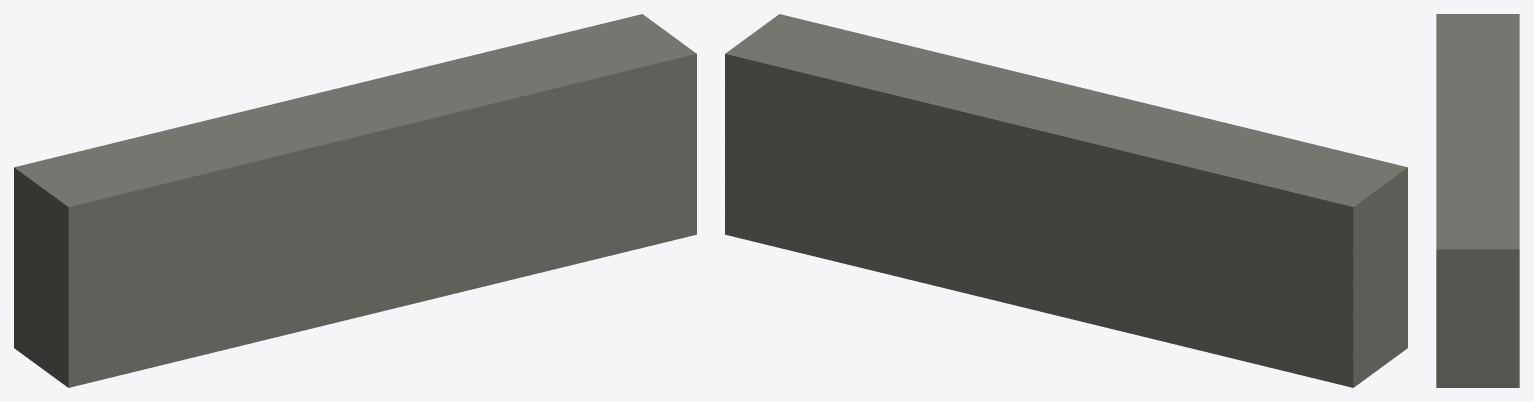
Rendered from OA_Beam_2m.fbx.
The picture shows the model from 3 angles, left to right: view 1: azimuth 30°, elevation 25°; view 2: azimuth 150°, elevation 25°; view 3: azimuth 270°, elevation 25°; orthographic projection. The views are drawn at different scales.
Parts seen in each view (by area): view 1: OA_Beam_2m; view 2: OA_Beam_2m; view 3: OA_Beam_2m.
Boxes of the visible parts, x1,y1,x2,y2 form: OA_Beam_2m: (14,14,696,387); OA_Beam_2m: (725,14,1407,387); OA_Beam_2m: (1436,14,1519,387).
Size of the model in its own units: 2 by 0.55 by 0.3.
1 material, 1 textured.
